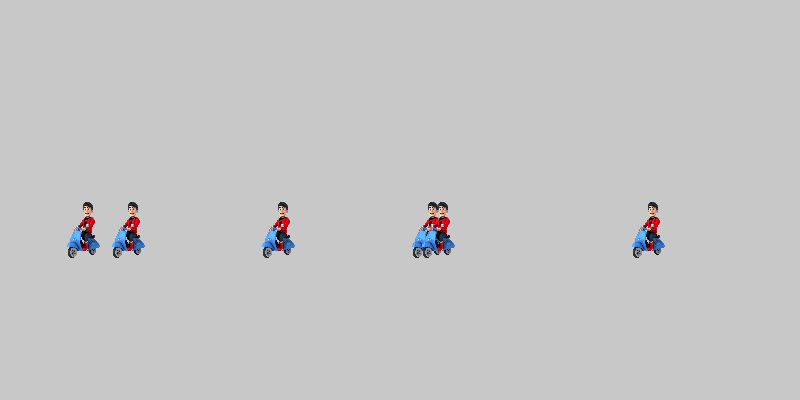no_helmet: (55, 200, 115, 260), (100, 200, 160, 260), (250, 200, 310, 260), (400, 200, 460, 260), (410, 200, 470, 260), (620, 200, 680, 260)
